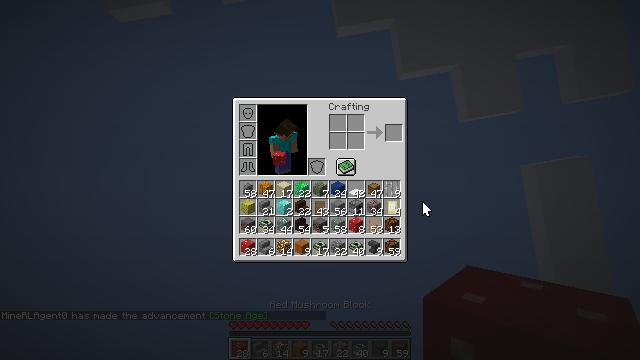cursor: (422, 201, 432, 217)
